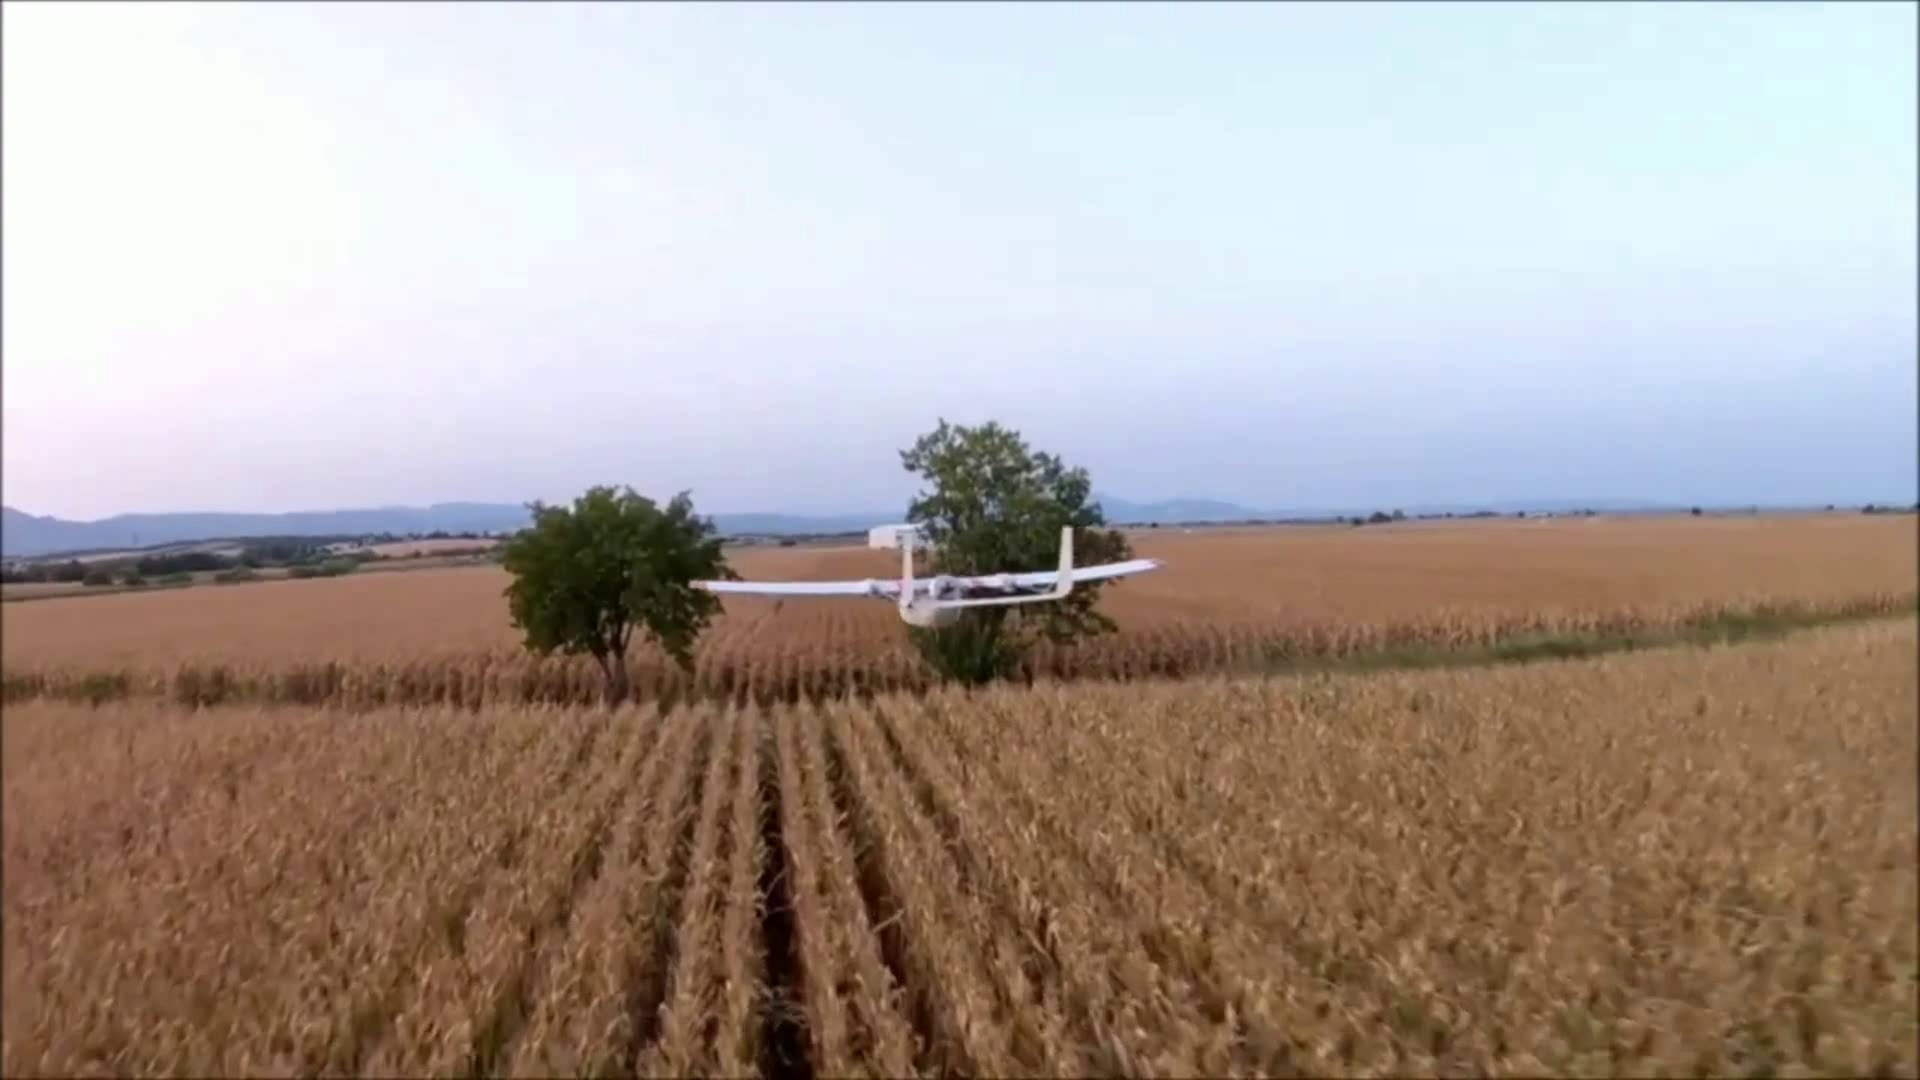airplane: (686, 520, 1156, 629)
